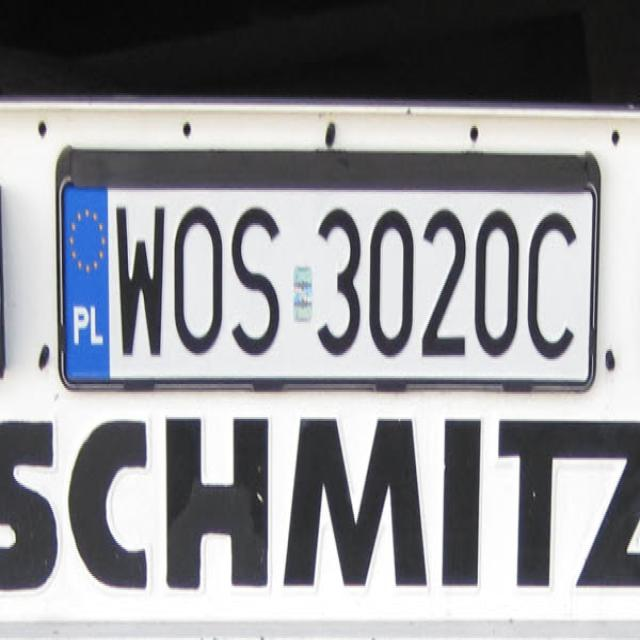pl_license_plate: (63, 180, 589, 382)
